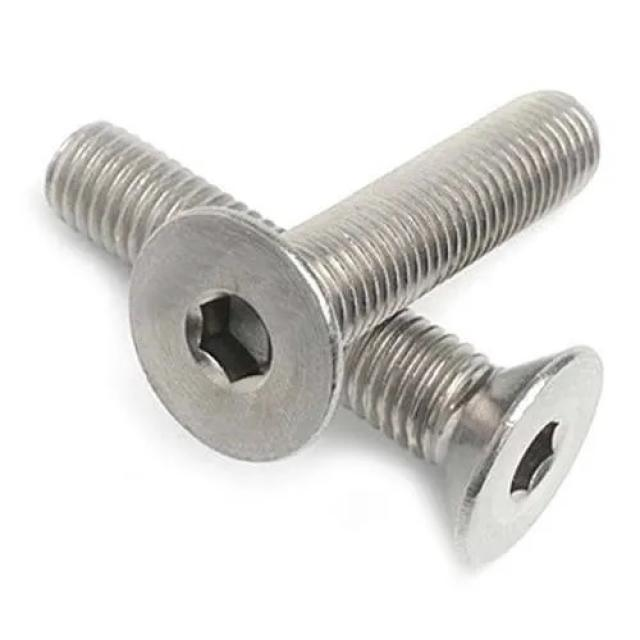allen: (126, 206, 344, 464), (450, 343, 605, 572)
